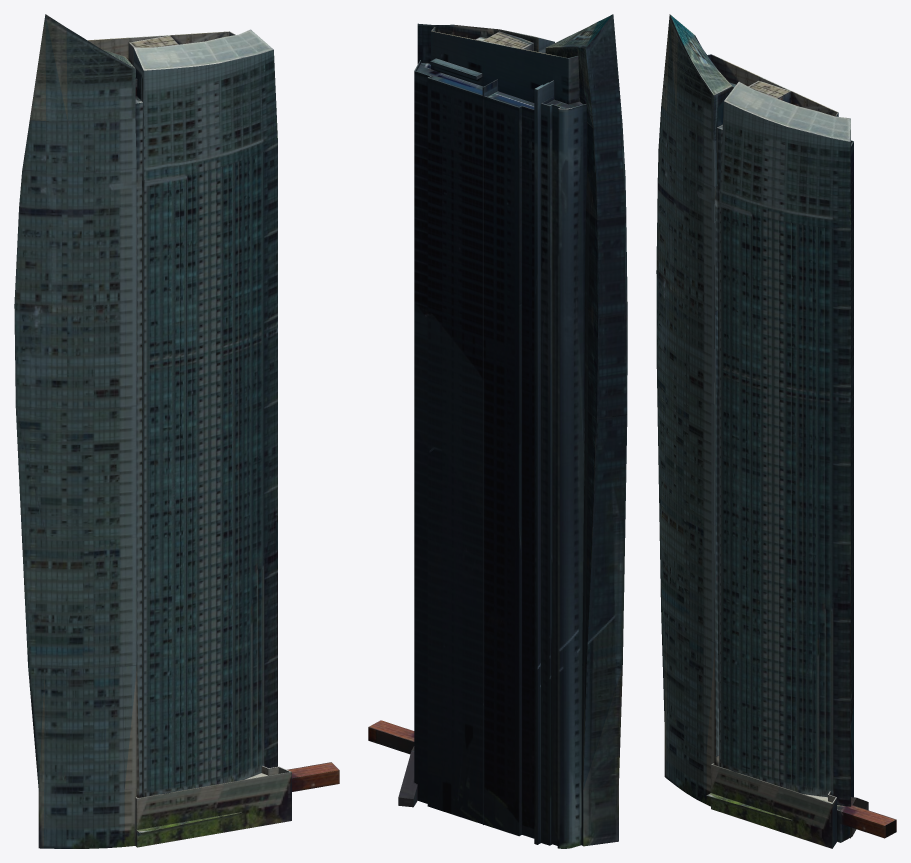
3 views of the same model, side by side, from view 1: azimuth 30°, elevation 25°; view 2: azimuth 150°, elevation 25°; view 3: azimuth 330°, elevation 25° (orthographic). The views are drawn at different scales.
Parts seen in each view (by area): view 1: 8_0.glb; view 2: 8_0.glb; view 3: 8_0.glb.
Part boxes in pixels (x1=…): 8_0.glb: x1=14, y1=14, x2=339, y2=848; 8_0.glb: x1=368, y1=14, x2=627, y2=848; 8_0.glb: x1=656, y1=14, x2=896, y2=848.
Size of the model in its own units: 87.97 by 242 by 31.09.
Materials: 2 (2 with a texture image).
